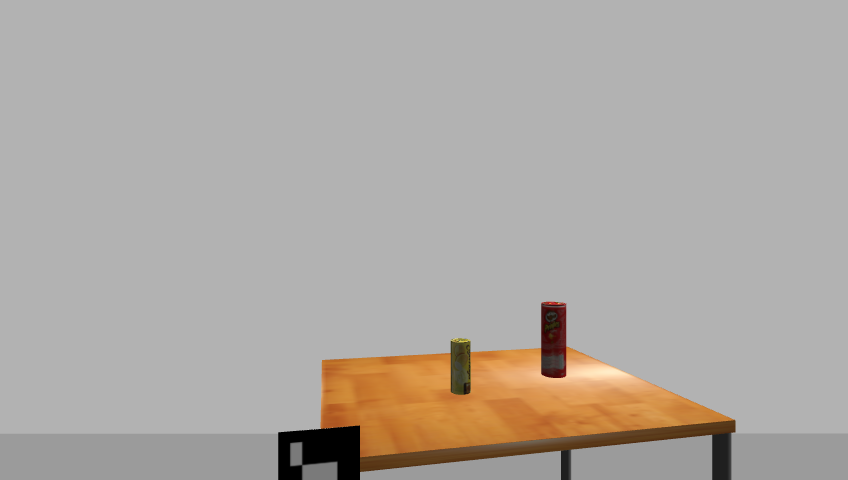aruco marker: (271, 425, 365, 480)
biscuits pack: (449, 338, 473, 396)
dinner table: (311, 345, 745, 479)
pringles can: (538, 301, 569, 379)
